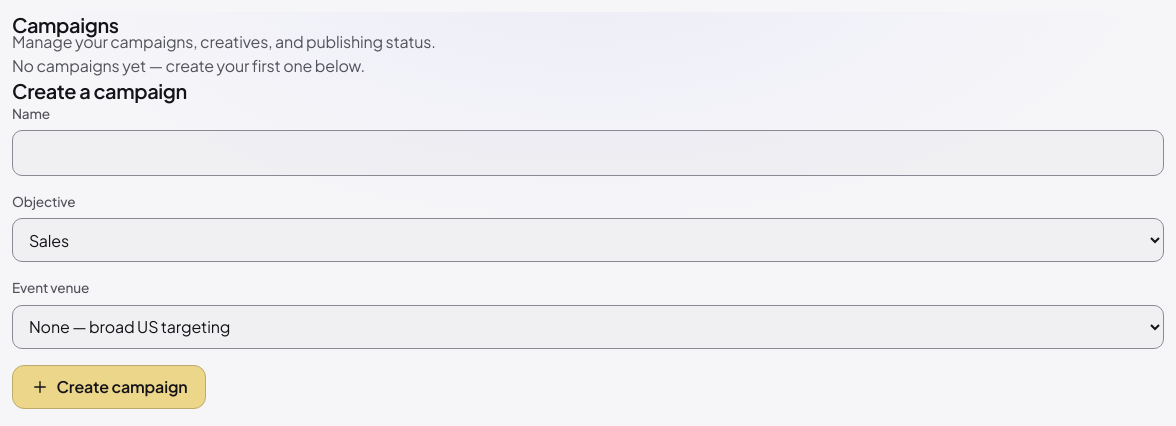
Test: CampaignsSection › creates a campaign with the entered name and selected objective
The width and height of the screenshot is (1176, 426).
Expected: the text "No campaigns yet — create your first one below." is shown, [12,55,365,76]
Type "Spring Sale" into the field labelled "Name" at (588, 153), box [12,130,1164,176]
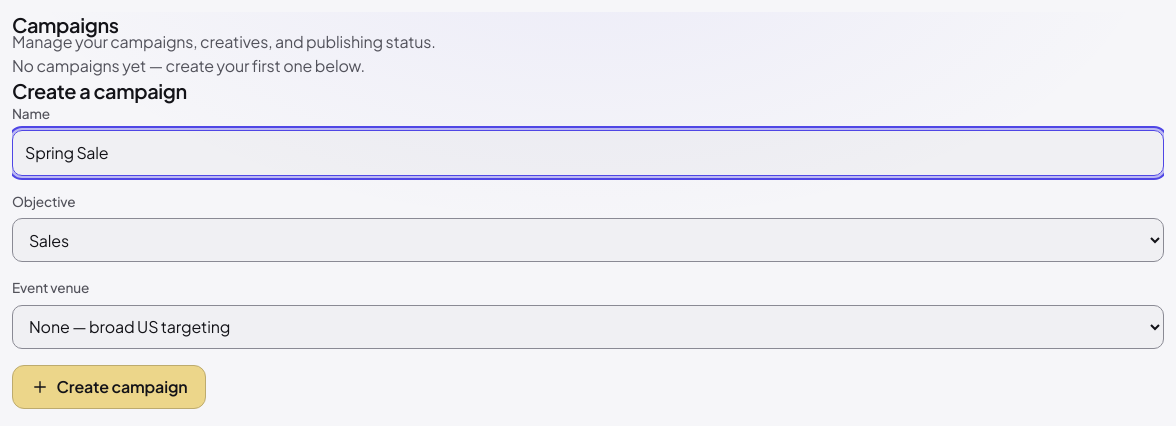
Select "Leads" in the dropdown labelled "Objective" at (588, 240), box [12,218,1164,262]
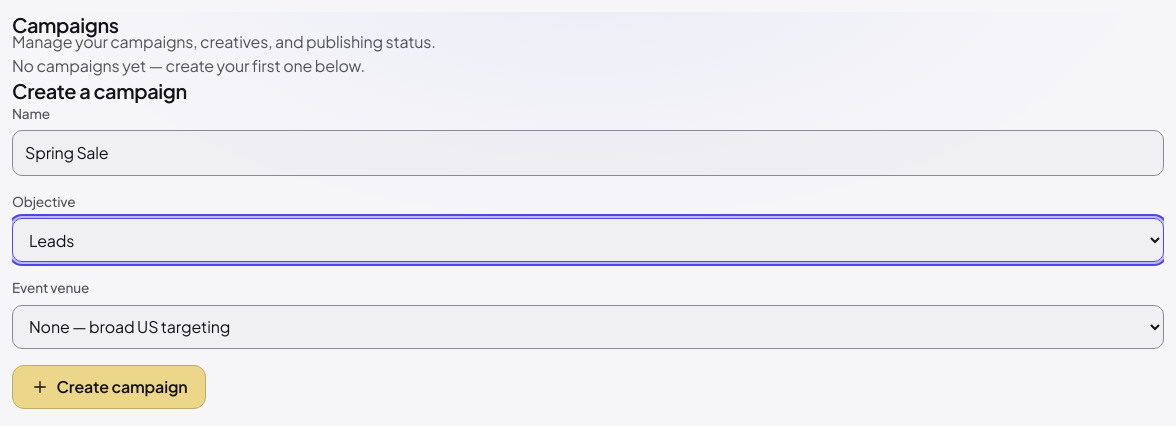
Click the button "Create campaign" at (109, 387), box [12,365,206,409]
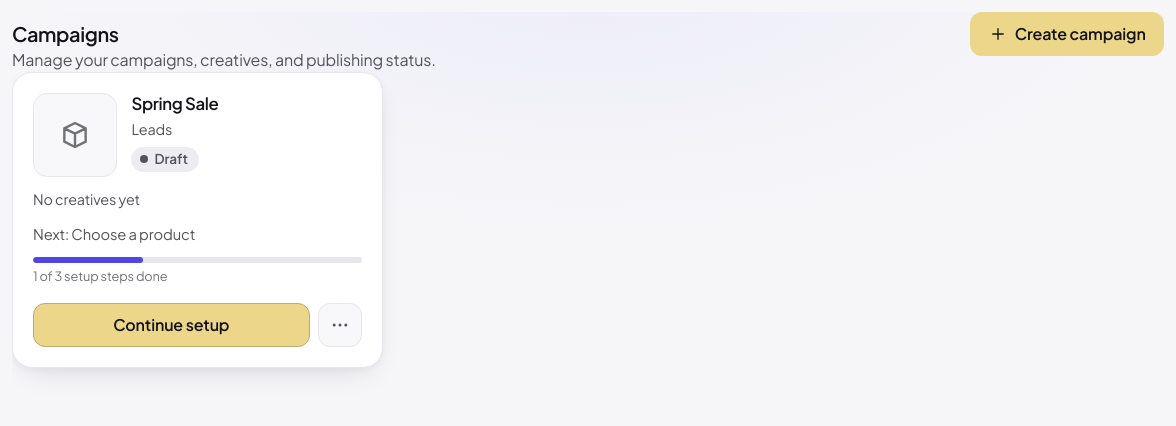
Expected: the heading "Spring Sale" is shown, [131,93,219,115]
